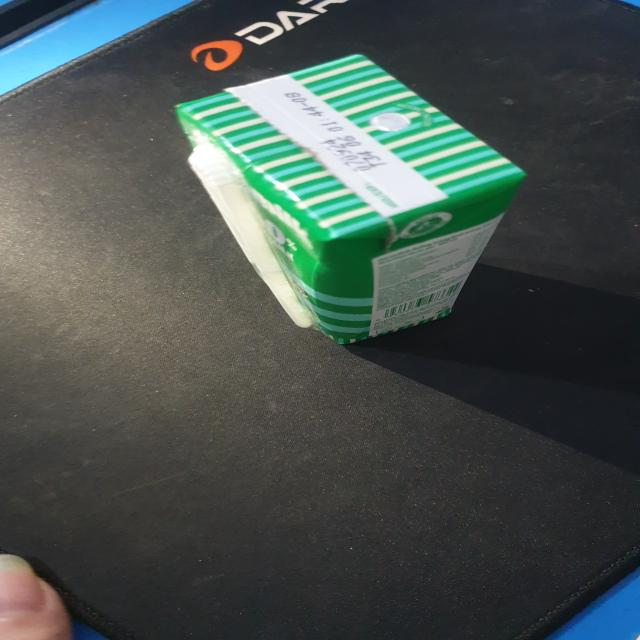Vina: (170, 55, 526, 350)
